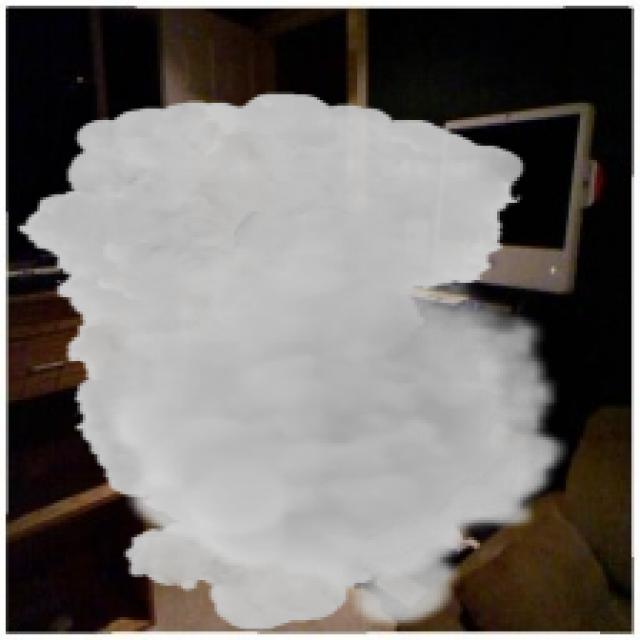smoke: (14, 91, 569, 632)
